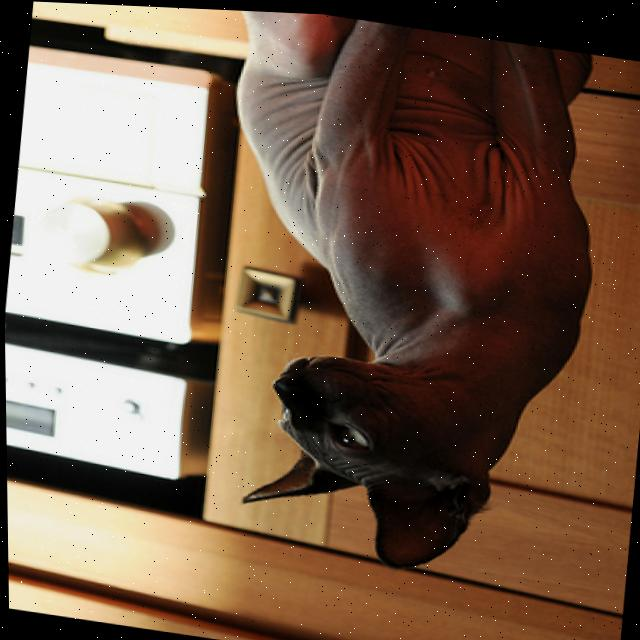Sphynx: (157, 5, 623, 597)
